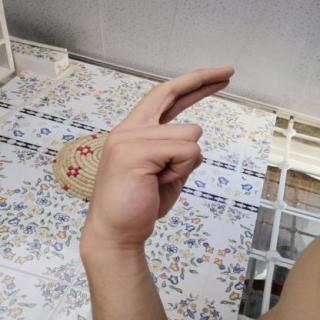ZAY: (74, 57, 245, 255)
